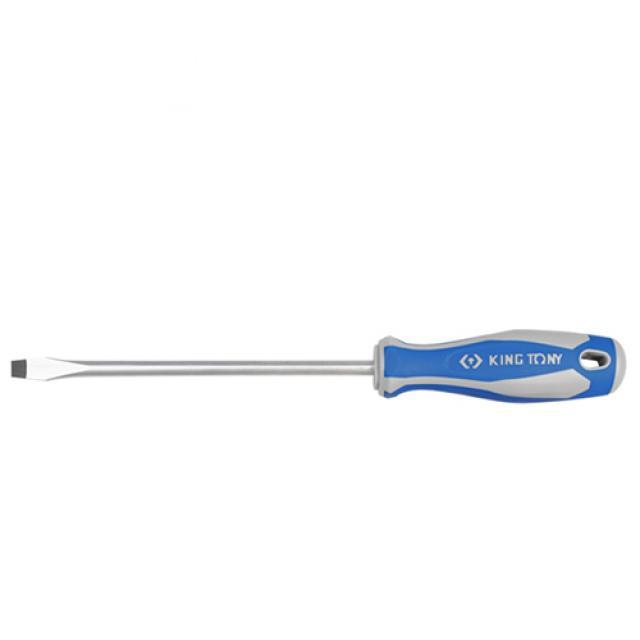screwdriver: (2, 324, 628, 407)
